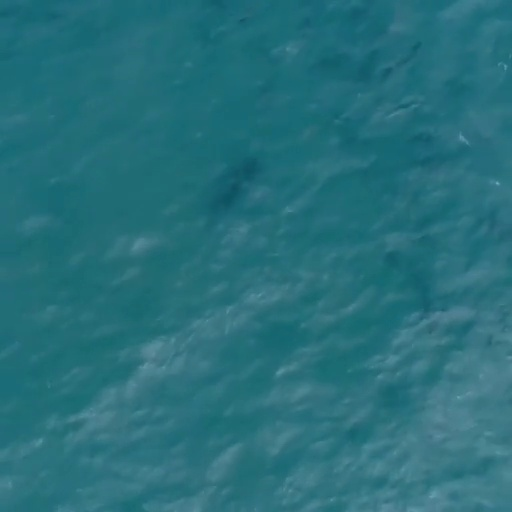shark: (209, 154, 262, 216)
